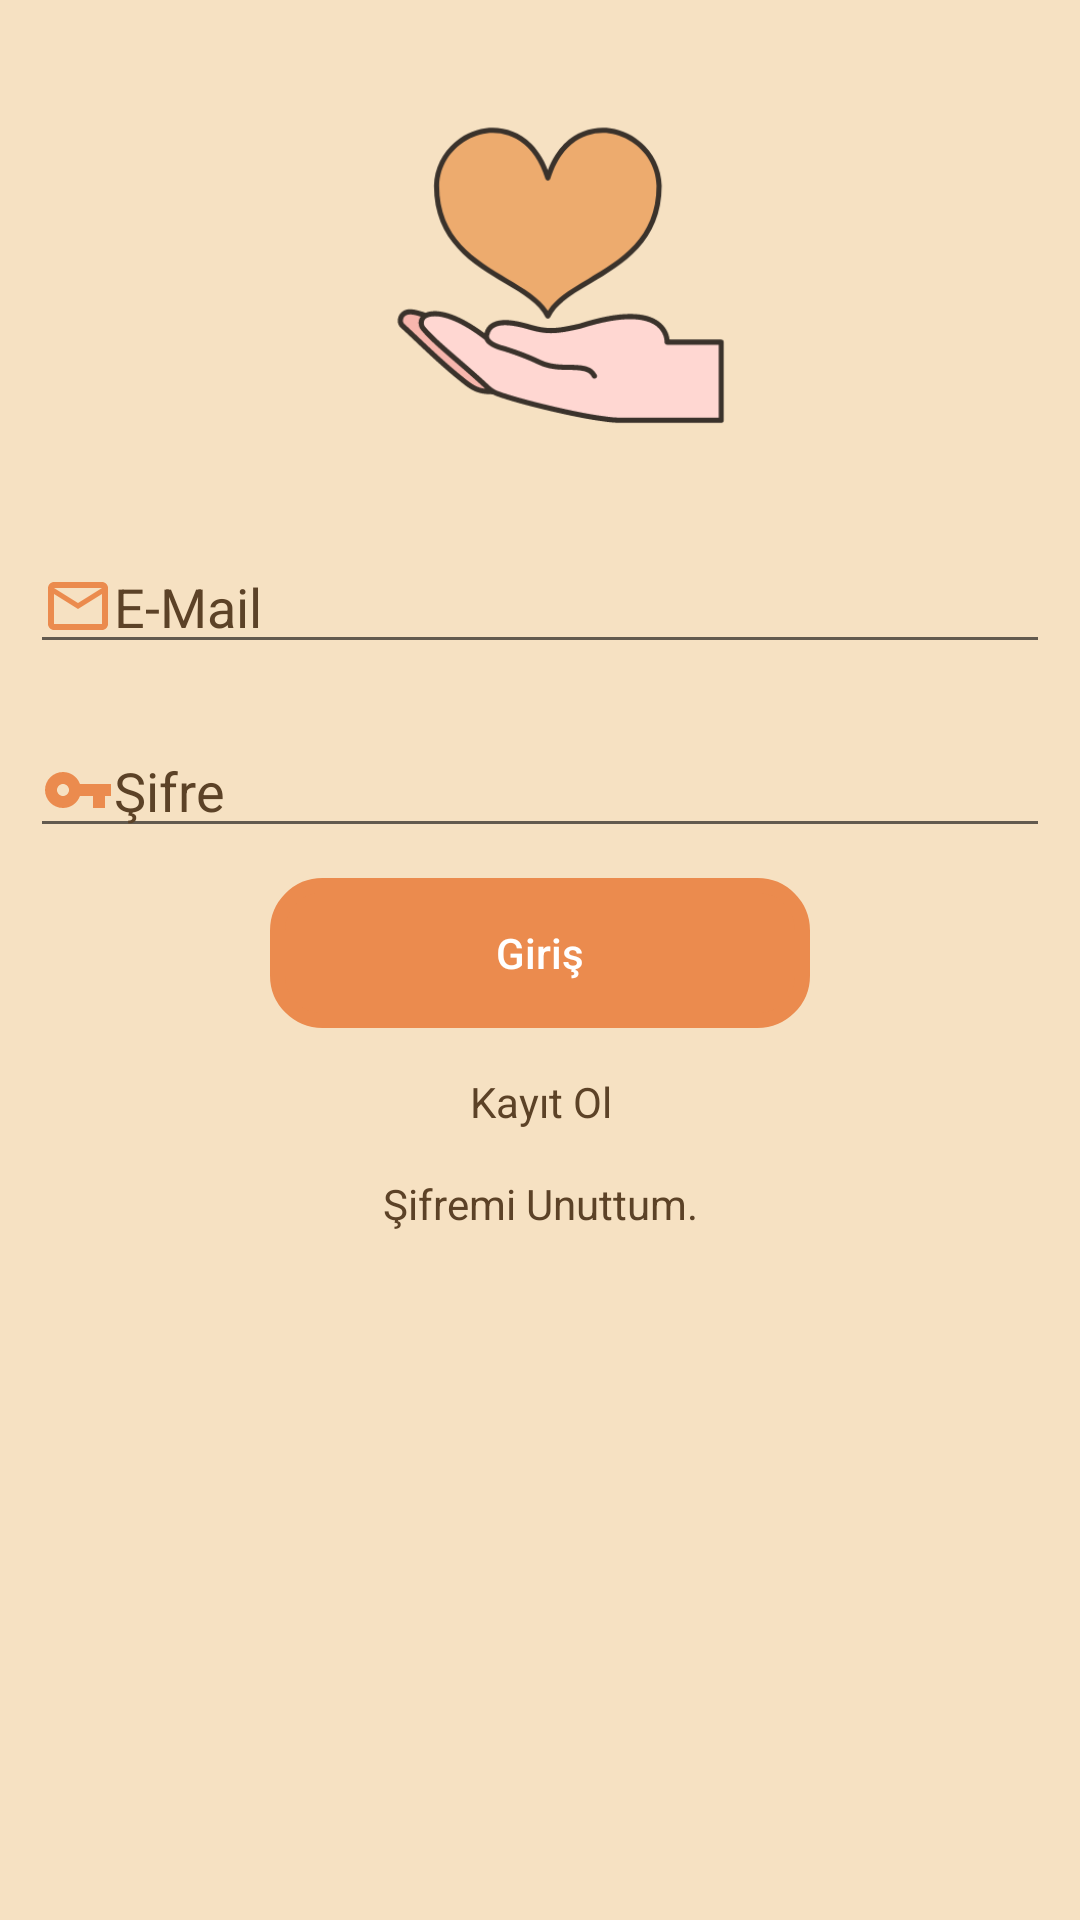

Named icons in this screenshot (1080w x 1920h) and their centers, (x,y):
donaterman: (560,275)
